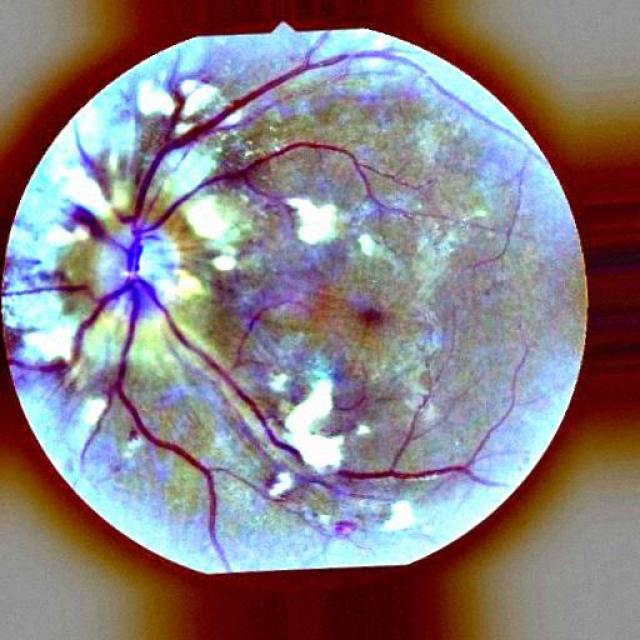Macula: (343, 297, 395, 344)
Nerves: (0, 49, 528, 570)
Optic Disk: (95, 220, 179, 319)
